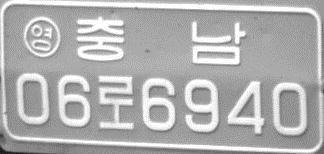0: (270, 81, 308, 137), (15, 70, 50, 125)
4: (227, 80, 266, 134)
6: (141, 75, 176, 132), (57, 73, 92, 128)
9: (182, 78, 220, 133)
로: (96, 73, 136, 131)
영: (21, 14, 61, 58)
충남_D: (76, 15, 246, 65)
